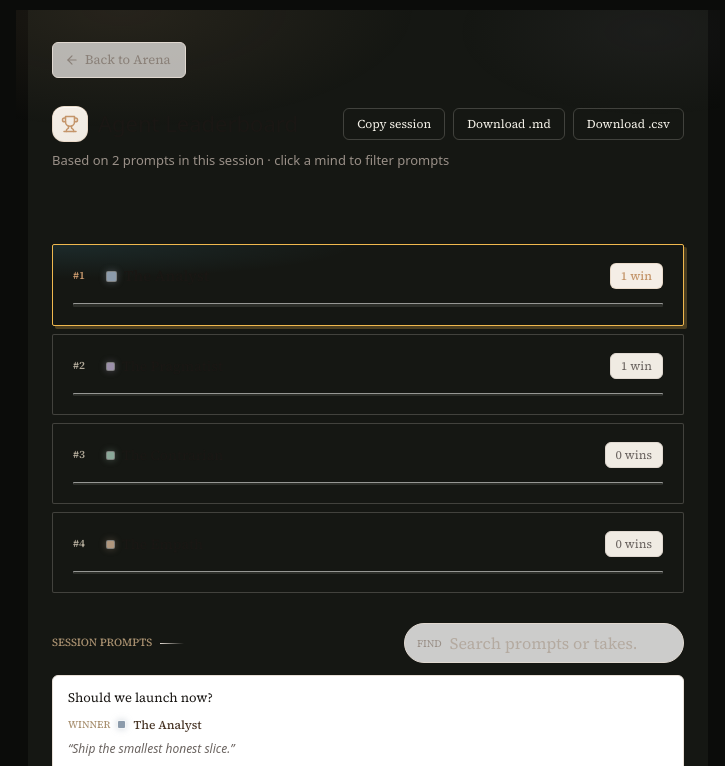
LeaderboardView › clears the search and restores the full session view
In the search field named "Search session prompts": (562, 643) [442,624,683,662], type "launch"
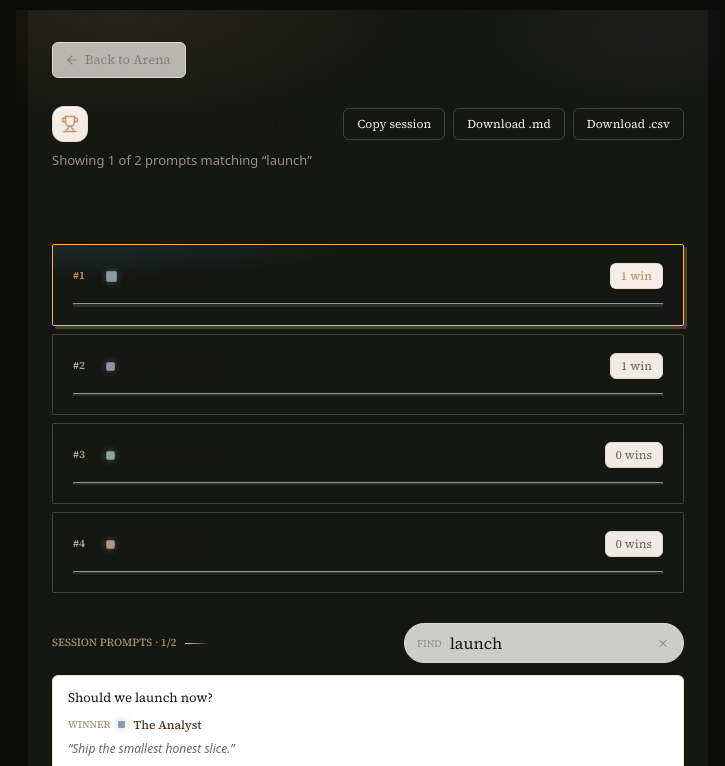
Click the button named "Clear session prompt search": (663, 643) [649,629,677,657]
(page scrolled)
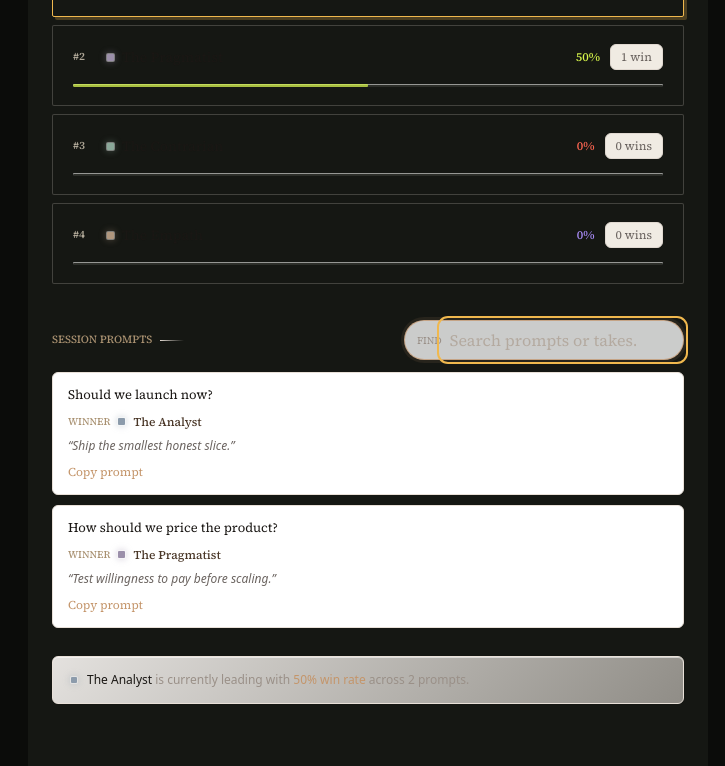
Expected: the text "Should we launch now?" is shown, [68,386,213,403]
Result: the search field named "Search session prompts" is empty at [442,321,683,359]
Result: the text "How should we price the product?" is shown at [68,519,278,536]
